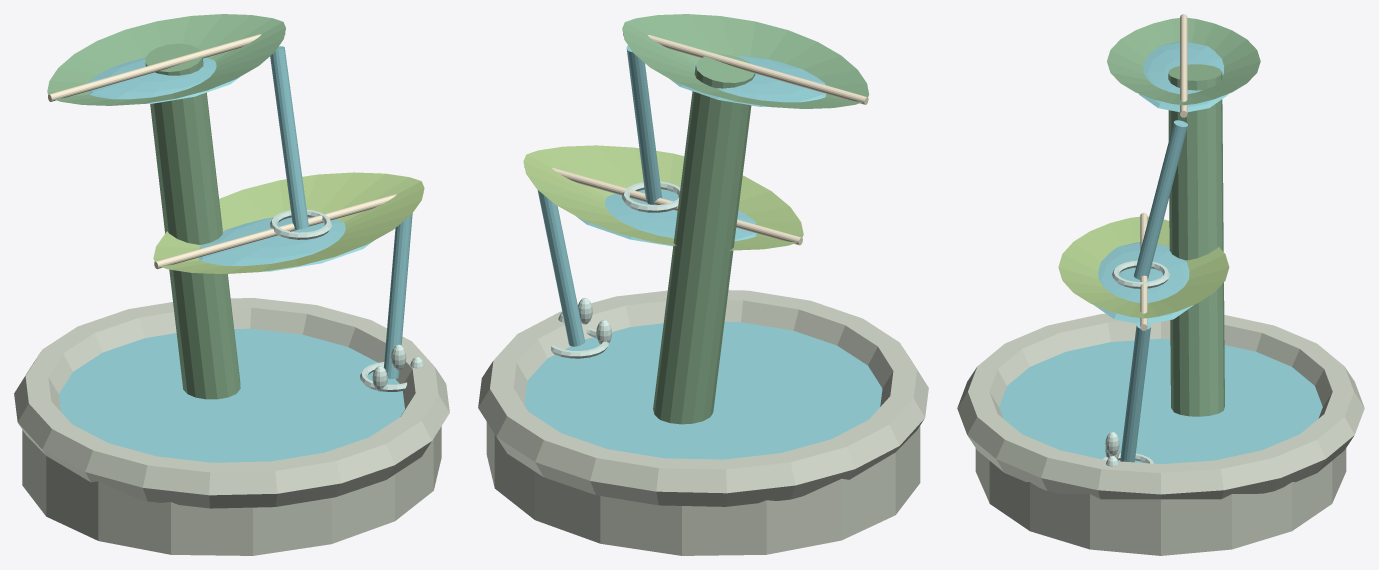
The model's file is LeafFountain.fbx.
3 views of the same model, side by side, from view 1: azimuth 30°, elevation 25°; view 2: azimuth 150°, elevation 25°; view 3: azimuth 270°, elevation 25° (orthographic). The views are drawn at different scales.
Visible parts, largest first — view 1: LeafFountain_Collection limestone, LeafFountain_Collection turquoise water, LeafFountain_Collection sage, LeafFountain_Collection fresh leaf, LeafFountain_Collection ivory, LeafFountain_Collection water glint; view 2: LeafFountain_Collection limestone, LeafFountain_Collection turquoise water, LeafFountain_Collection sage, LeafFountain_Collection fresh leaf, LeafFountain_Collection ivory, LeafFountain_Collection water glint; view 3: LeafFountain_Collection limestone, LeafFountain_Collection turquoise water, LeafFountain_Collection sage, LeafFountain_Collection fresh leaf, LeafFountain_Collection ivory, LeafFountain_Collection water glint.
Part boxes in pixels (x1,y1,x2,y2): LeafFountain_Collection limestone: (14, 298, 449, 555); LeafFountain_Collection turquoise water: (59, 46, 412, 462); LeafFountain_Collection sage: (47, 14, 285, 399); LeafFountain_Collection fresh leaf: (153, 172, 424, 273); LeafFountain_Collection ivory: (48, 33, 423, 269); LeafFountain_Collection water glint: (270, 209, 424, 391); LeafFountain_Collection limestone: (478, 290, 928, 555); LeafFountain_Collection turquoise water: (524, 45, 882, 459); LeafFountain_Collection sage: (622, 14, 869, 424); LeafFountain_Collection fresh leaf: (523, 145, 803, 250); LeafFountain_Collection ivory: (524, 34, 868, 245); LeafFountain_Collection water glint: (551, 181, 680, 358); LeafFountain_Collection limestone: (957, 313, 1364, 555); LeafFountain_Collection turquoise water: (999, 42, 1322, 463); LeafFountain_Collection sage: (1107, 18, 1260, 416); LeafFountain_Collection fresh leaf: (1058, 216, 1229, 318); LeafFountain_Collection ivory: (1140, 14, 1187, 330); LeafFountain_Collection water glint: (1102, 260, 1169, 466).
Size of the model in its own units: 143 by 153 by 143.
